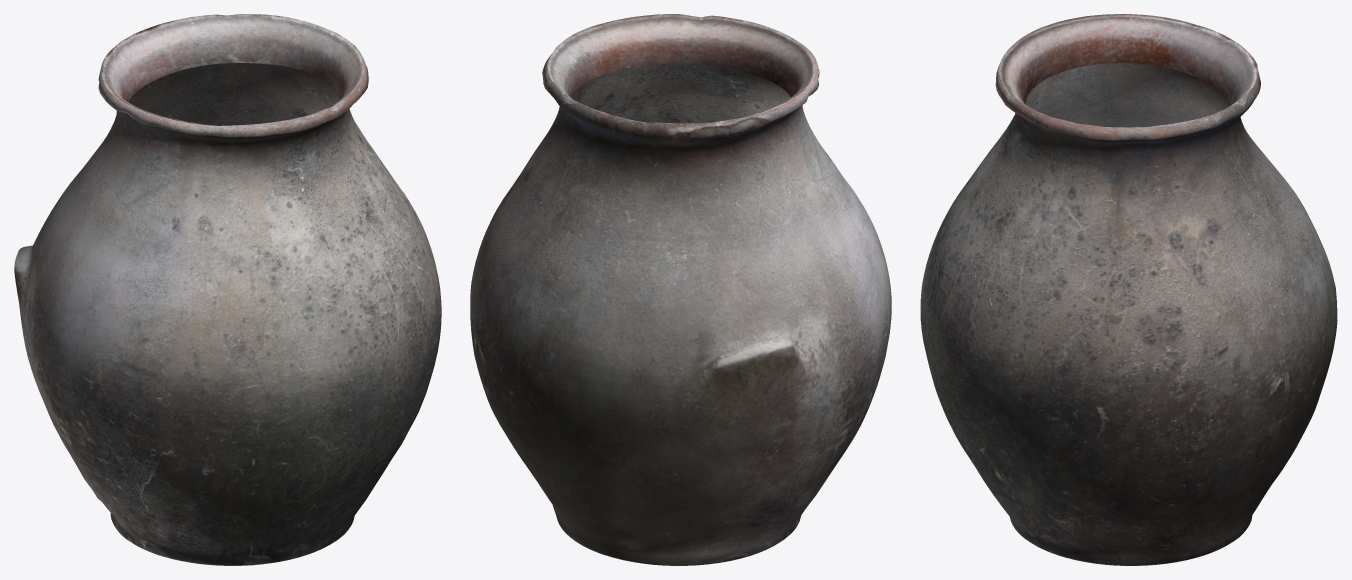
File: OldPot_final_export_01.fbx
The picture shows the model from 3 angles, left to right: view 1: azimuth 30°, elevation 25°; view 2: azimuth 150°, elevation 25°; view 3: azimuth 270°, elevation 25°; orthographic projection.
Parts seen in each view (by area): view 1: OldPot; view 2: OldPot; view 3: OldPot.
Boxes of the visible parts, x1,y1,x2,y2 form: OldPot: (14,14,441,565); OldPot: (470,14,891,565); OldPot: (920,14,1337,565).
Bounding box in the file's own units: 35.18 × 41.24 × 35.08.
